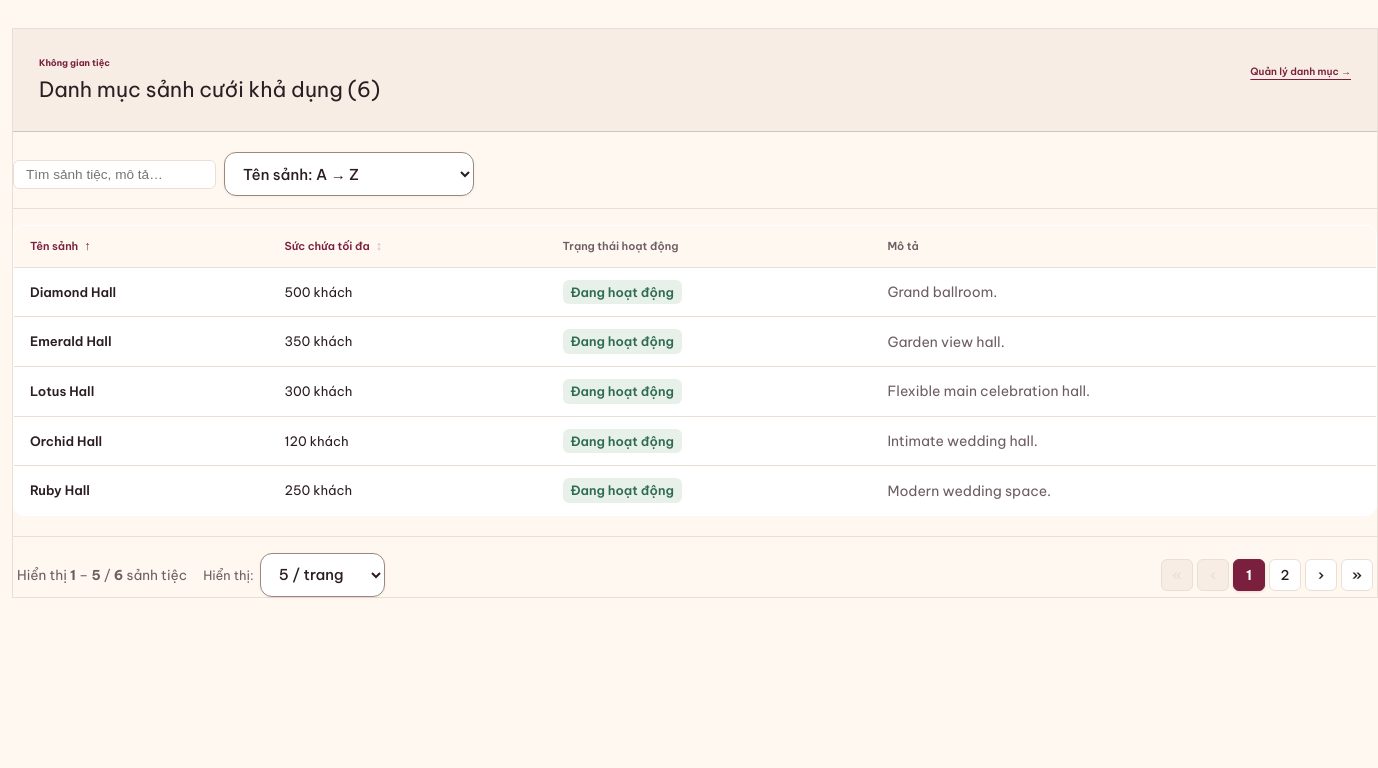
Test: DashboardVenueHalls pagination and sorting › sorts halls by capacity when capacity header is clicked
Click the button "Sức chứa tối đa ↕": (408,246) [284,238,531,255]
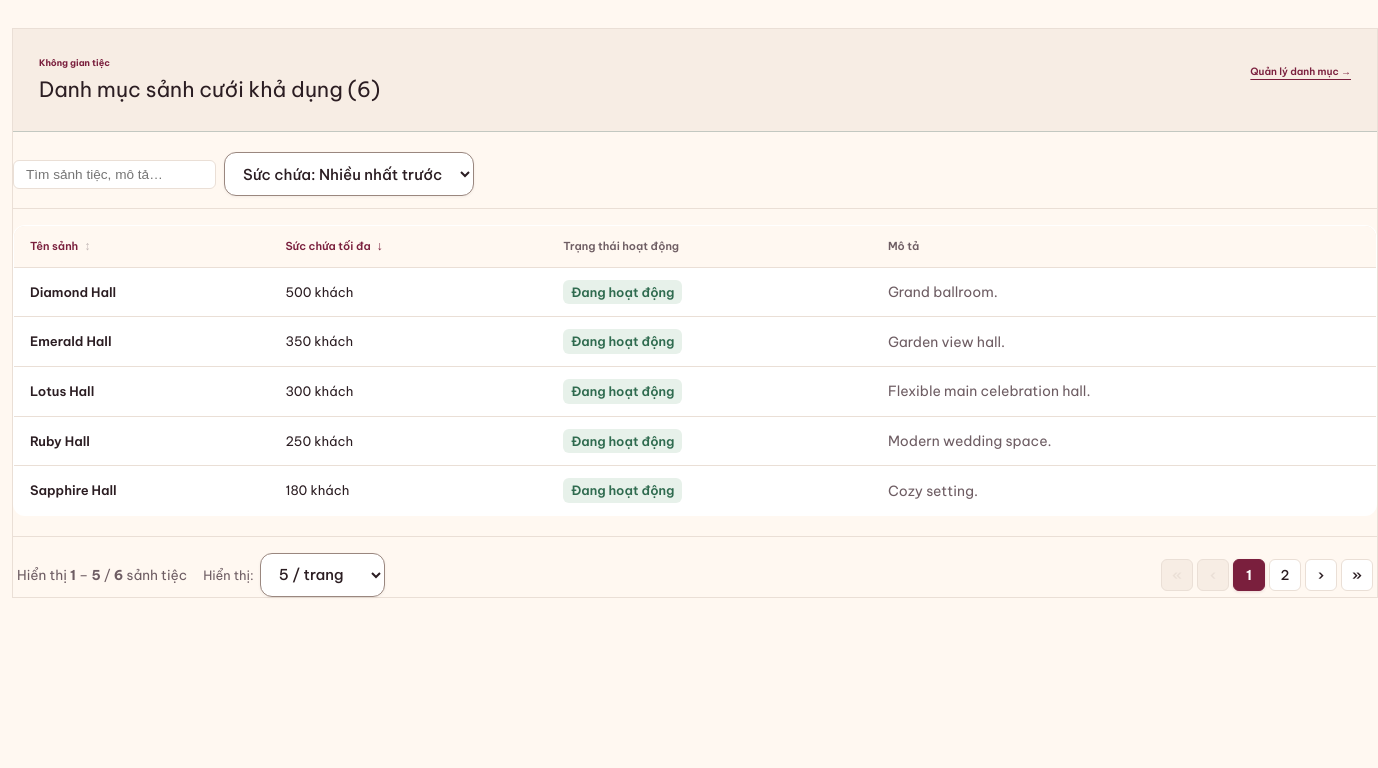
Check: the text "Diamond Hall" is shown, box [14,267,269,317]
Check: the text "Sapphire Hall" is shown, box [14,466,269,515]
Check: the text "Orchid Hall" is gone
